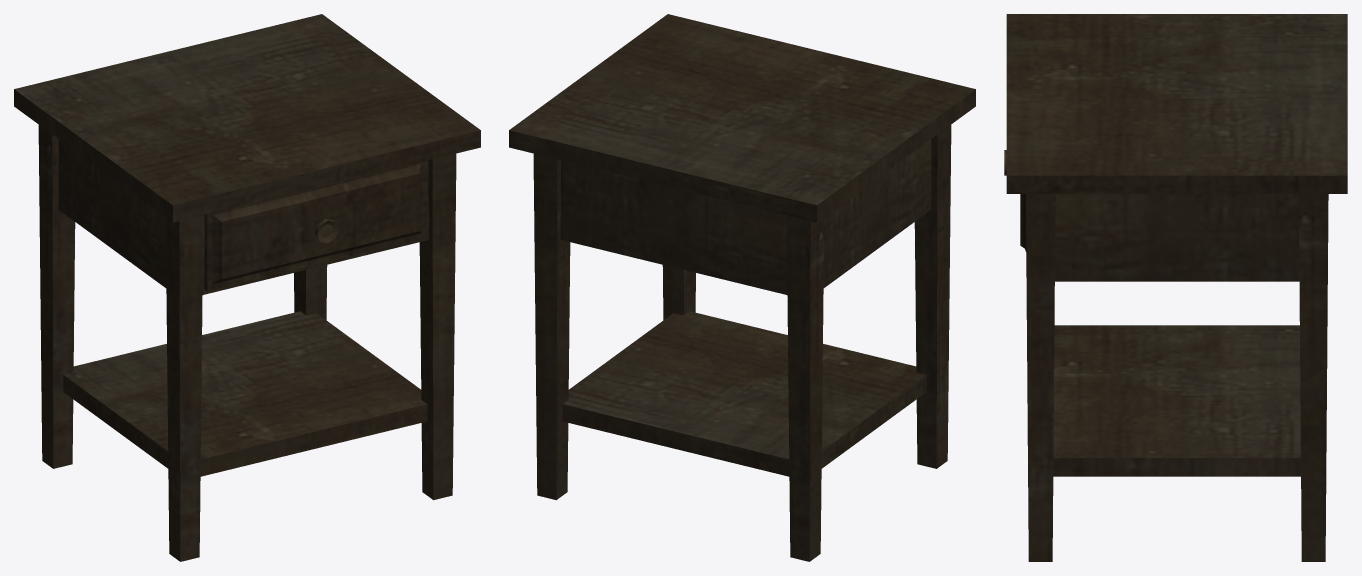
Rendered from bedside_table_1_4.obj.
3 views of the same model, side by side, from view 1: azimuth 30°, elevation 25°; view 2: azimuth 150°, elevation 25°; view 3: azimuth 270°, elevation 25° (orthographic). The views are drawn at different scales.
Visible parts, largest first — view 1: bedside_table_1_4, bedside_table_1_4_drawer; view 2: bedside_table_1_4; view 3: bedside_table_1_4.
Part boxes in pixels (box(x1,y1,x2,y2)): bedside_table_1_4: box(14, 14, 480, 561); bedside_table_1_4_drawer: box(204, 160, 427, 291); bedside_table_1_4: box(509, 14, 975, 561); bedside_table_1_4: box(1006, 14, 1347, 561).
Bounding box in the file's own units: 0.56 × 0.64 × 0.5035.
